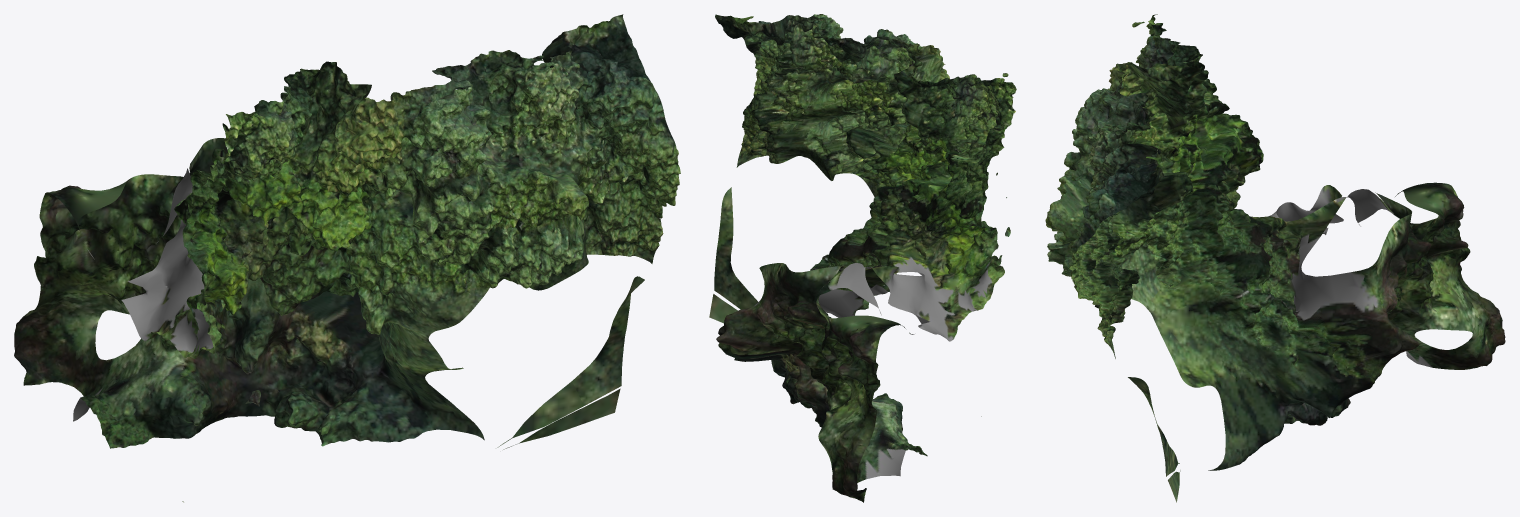
File: Tile_+017_+002.fbx
3 views of the same model, side by side, from view 1: azimuth 30°, elevation 25°; view 2: azimuth 150°, elevation 25°; view 3: azimuth 270°, elevation 25° (orthographic). The views are drawn at different scales.
Parts seen in each view (by area): view 1: DefaultName; view 2: DefaultName; view 3: DefaultName.
Boxes of the visible parts, bbox=[...] form: DefaultName: bbox=[14, 14, 680, 502]; DefaultName: bbox=[709, 14, 1016, 502]; DefaultName: bbox=[1045, 14, 1505, 502].
Size of the model in its own units: 22.54 by 22.54 by 27.51.
